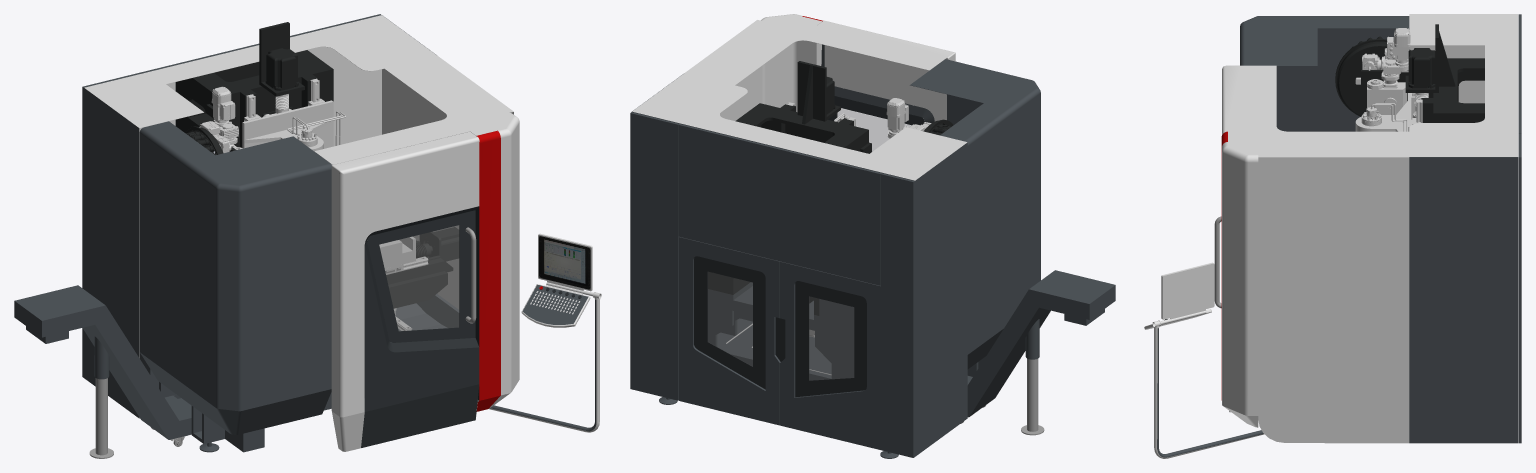
Rendered from cnc_machine.glb.
3 views of the same model, side by side, from view 1: azimuth 30°, elevation 25°; view 2: azimuth 150°, elevation 25°; view 3: azimuth 270°, elevation 25° (orthographic). The views are drawn at different scales.
Parts seen in each view (by area): view 1: CNC_Machine_with_Doors_mesh76_192, CNC_Machine_with_Doors_mesh106_184, CNC_Machine_with_Doors_mesh72_176, CNC_Machine_with_Doors_mesh179_180, CNC_Machine_with_Doors_mesh83_202, CNC_Machine_with_Doors_mesh78_196, CNC_Machine_with_Doors_mesh103_232, CNC_Machine_with_Doors_mesh88_206, CNC_Machine_with_Doors_mesh135_336, CNC_Machine_with_Doors_mesh77_198, CNC_Machine_with_Doors_mesh110_178, CNC_Machine_with_Doors_mesh80_200 (+8 smaller); view 2: CNC_Machine_with_Doors_mesh132_272, CNC_Machine_with_Doors_mesh106_184, CNC_Machine_with_Doors_mesh76_192, CNC_Machine_with_Doors_mesh101_194, CNC_Machine_with_Doors_mesh85_204, CNC_Machine_with_Doors_mesh179_180, CNC_Machine_with_Doors_mesh103_232, CNC_Machine_with_Doors_mesh100_230, CNC_Machine_with_Doors_mesh72_176, CNC_Machine_with_Doors_mesh77_198, CNC_Machine_with_Doors_mesh73_186, CNC_Machine_with_Doors_mesh78_196 (+2 smaller); view 3: CNC_Machine_with_Doors_mesh106_184, CNC_Machine_with_Doors_mesh74_188, CNC_Machine_with_Doors_mesh76_192, CNC_Machine_with_Doors_mesh88_206, CNC_Machine_with_Doors_mesh103_232, CNC_Machine_with_Doors_mesh91_214, CNC_Machine_with_Doors_mesh101_194, CNC_Machine_with_Doors_mesh72_176, CNC_Machine_with_Doors_mesh44_104, CNC_Machine_with_Doors_mesh37_90, CNC_Machine_with_Doors_mesh41_96, CNC_Machine_with_Doors_mesh124_248 (+4 smaller).
Part boxes in pixels (x1,y1,x2,y2): CNC_Machine_with_Doors_mesh76_192: (139, 121, 331, 434); CNC_Machine_with_Doors_mesh106_184: (84, 15, 519, 418); CNC_Machine_with_Doors_mesh72_176: (331, 131, 479, 451); CNC_Machine_with_Doors_mesh179_180: (14, 285, 191, 439); CNC_Machine_with_Doors_mesh83_202: (364, 244, 479, 411); CNC_Machine_with_Doors_mesh78_196: (379, 225, 458, 330); CNC_Machine_with_Doors_mesh103_232: (175, 22, 333, 147); CNC_Machine_with_Doors_mesh88_206: (489, 233, 601, 432); CNC_Machine_with_Doors_mesh135_336: (477, 130, 500, 400); CNC_Machine_with_Doors_mesh77_198: (353, 192, 479, 449); CNC_Machine_with_Doors_mesh110_178: (367, 210, 476, 342); CNC_Machine_with_Doors_mesh80_200: (361, 384, 479, 447); CNC_Machine_with_Doors_mesh132_272: (678, 124, 881, 449); CNC_Machine_with_Doors_mesh106_184: (632, 14, 967, 456); CNC_Machine_with_Doors_mesh76_192: (910, 59, 1040, 369); CNC_Machine_with_Doors_mesh101_194: (630, 112, 678, 400); CNC_Machine_with_Doors_mesh85_204: (881, 173, 914, 457); CNC_Machine_with_Doors_mesh179_180: (967, 270, 1115, 417); CNC_Machine_with_Doors_mesh103_232: (708, 61, 868, 315); CNC_Machine_with_Doors_mesh100_230: (708, 282, 985, 380); CNC_Machine_with_Doors_mesh72_176: (816, 20, 955, 119); CNC_Machine_with_Doors_mesh77_198: (826, 71, 941, 123); CNC_Machine_with_Doors_mesh73_186: (1021, 358, 1044, 435); CNC_Machine_with_Doors_mesh78_196: (837, 108, 911, 151); CNC_Machine_with_Doors_mesh106_184: (1222, 14, 1518, 443); CNC_Machine_with_Doors_mesh74_188: (1409, 157, 1518, 443); CNC_Machine_with_Doors_mesh76_192: (1240, 16, 1409, 131); CNC_Machine_with_Doors_mesh88_206: (1144, 262, 1264, 458); CNC_Machine_with_Doors_mesh103_232: (1405, 24, 1484, 122); CNC_Machine_with_Doors_mesh91_214: (1335, 39, 1410, 116); CNC_Machine_with_Doors_mesh101_194: (1518, 133, 1521, 443); CNC_Machine_with_Doors_mesh72_176: (1222, 65, 1239, 134); CNC_Machine_with_Doors_mesh44_104: (1408, 48, 1435, 88); CNC_Machine_with_Doors_mesh37_90: (1382, 28, 1410, 78); CNC_Machine_with_Doors_mesh41_96: (1367, 81, 1407, 114); CNC_Machine_with_Doors_mesh124_248: (1355, 93, 1411, 131).
Bounding box in the file's own units: 4.33 × 3.21 × 3.12.
12 materials, 1 textured.
